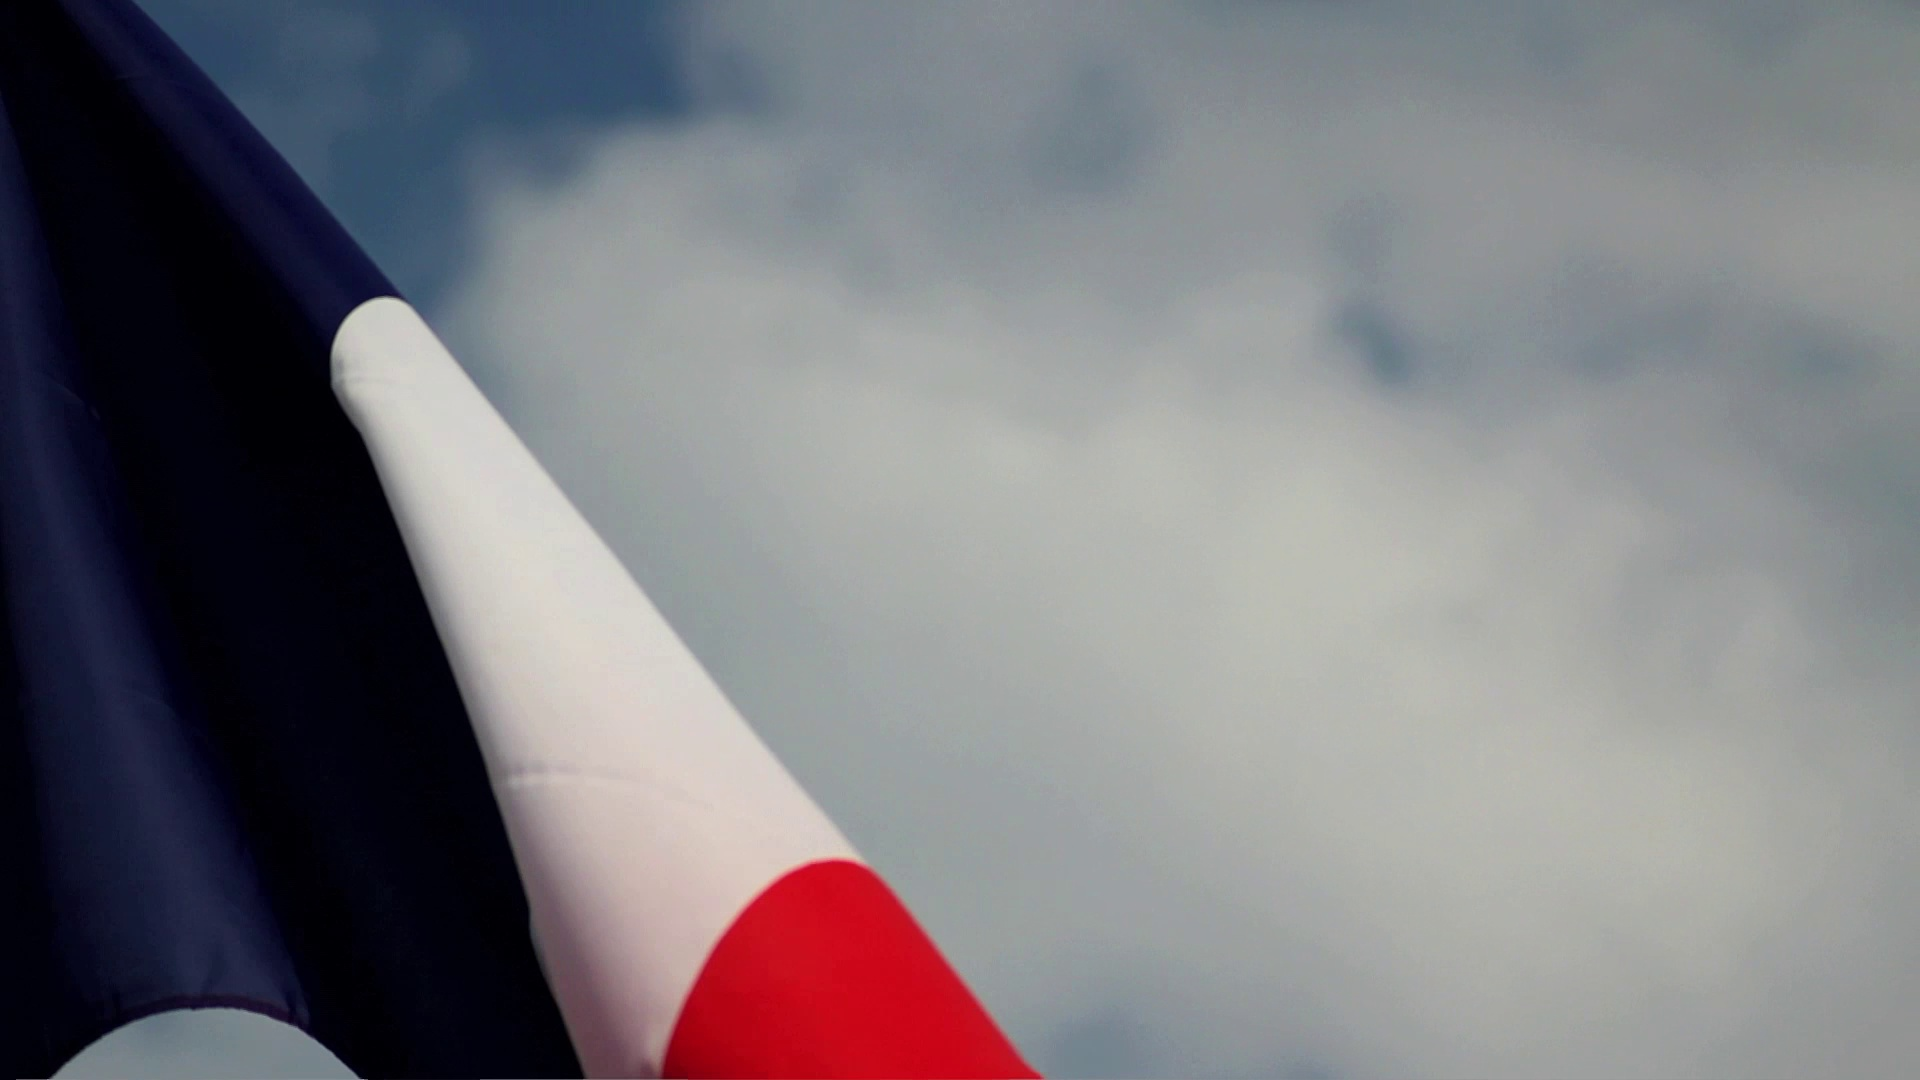French Flag: (1, 1, 1038, 1080)
